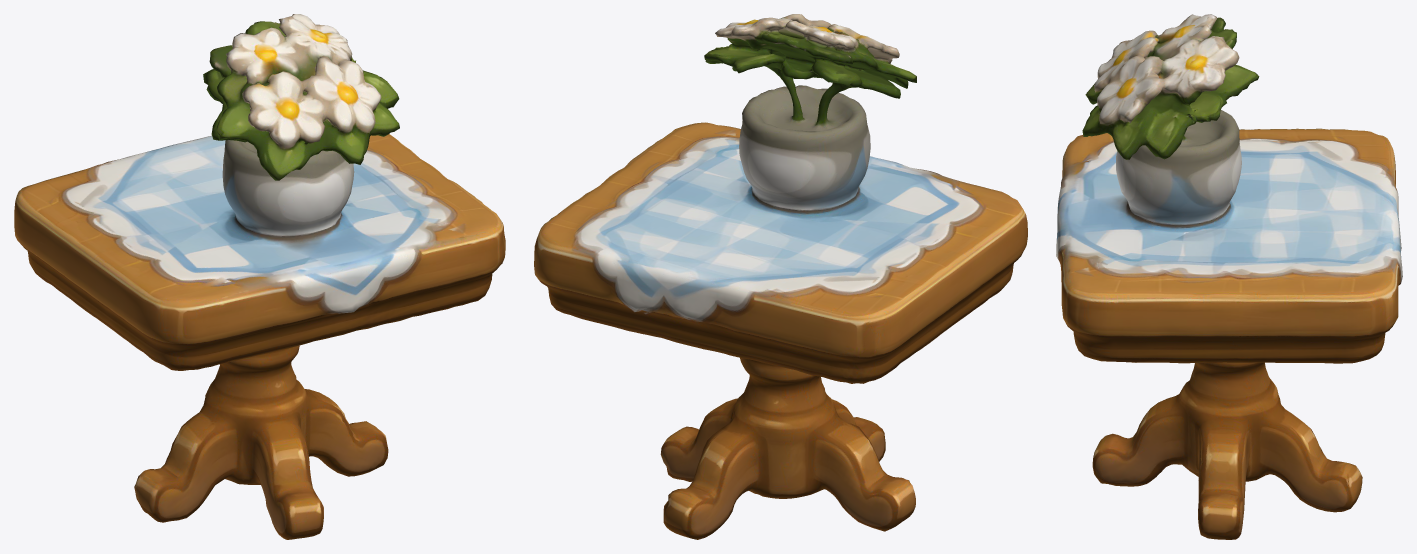
Rendered from Wood_Flower_square_table.glb.
3 renders of one model, left to right at view 1: azimuth 30°, elevation 25°; view 2: azimuth 150°, elevation 25°; view 3: azimuth 270°, elevation 25°, orthographic. The views are drawn at different scales.
Visible parts, largest first — view 1: RETOPO; view 2: RETOPO; view 3: RETOPO.
Boxes of the visible parts, x1=… form: RETOPO: x1=14, y1=14, x2=505, y2=539; RETOPO: x1=534, y1=14, x2=1027, y2=539; RETOPO: x1=1056, y1=14, x2=1402, y2=539.
Bounding box in the file's own units: 0.8492 × 1.08 × 0.731.
1 material, 1 textured.
